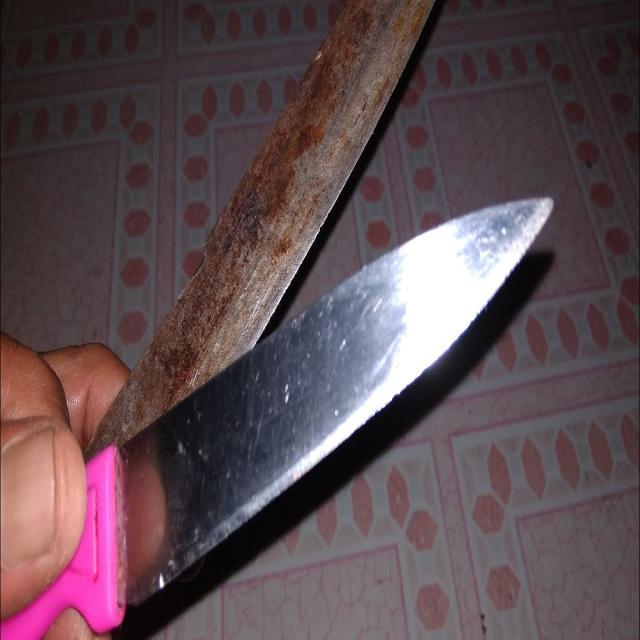Pisau: (90, 186, 567, 634)
